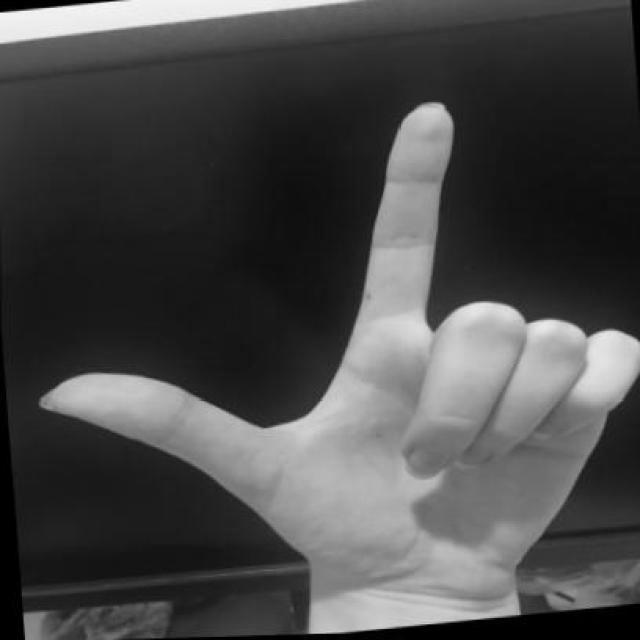L: (5, 75, 638, 626)
